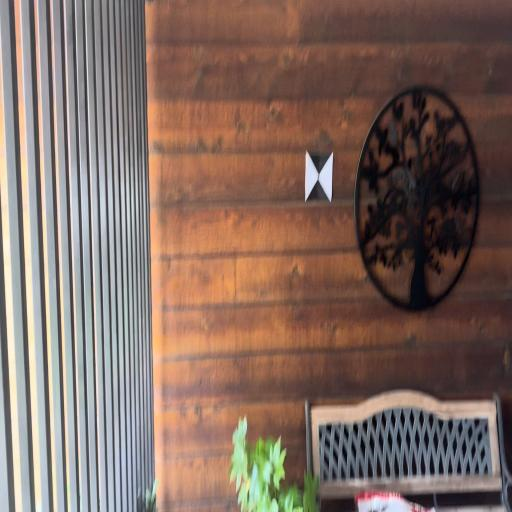target: (306, 152, 332, 200)
